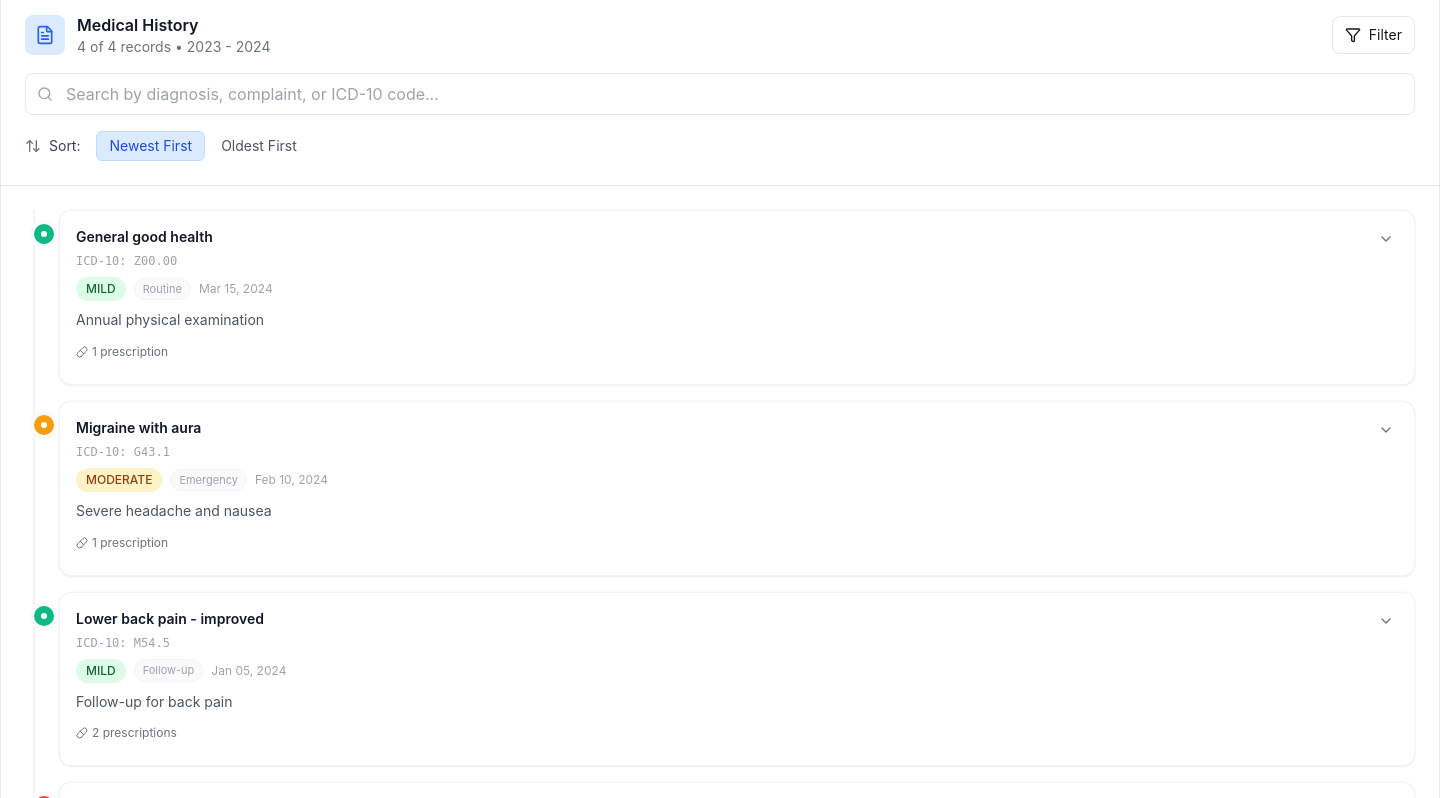
Test: MedicalHistoryTimeline › Filtering Controls › can clear all filters
Click the button "Filter" at (1373, 35), box [1332,16,1415,54]
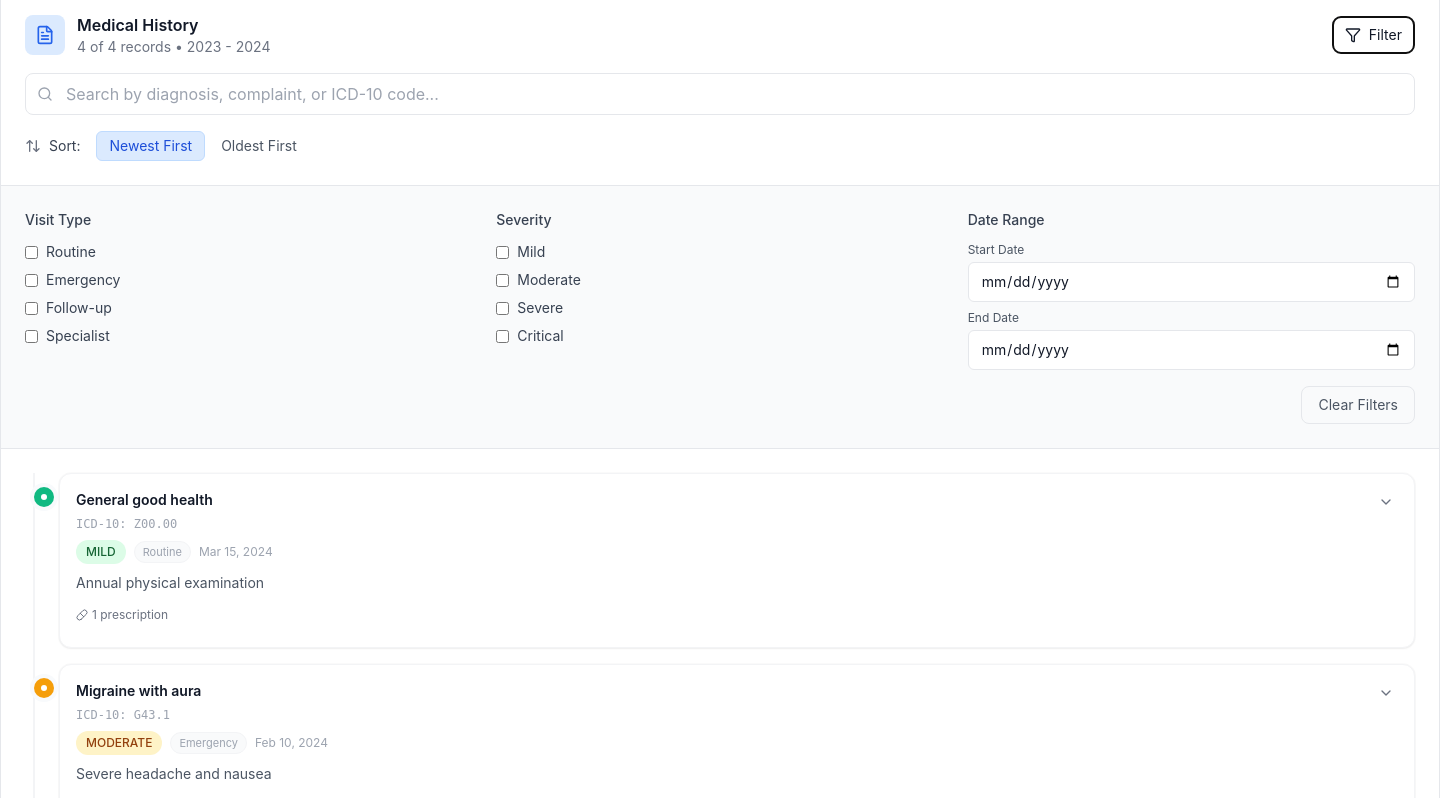
# Apply some filters
Click the checkbox labelled "Emergency" at (32, 280), box [25,274,38,286]
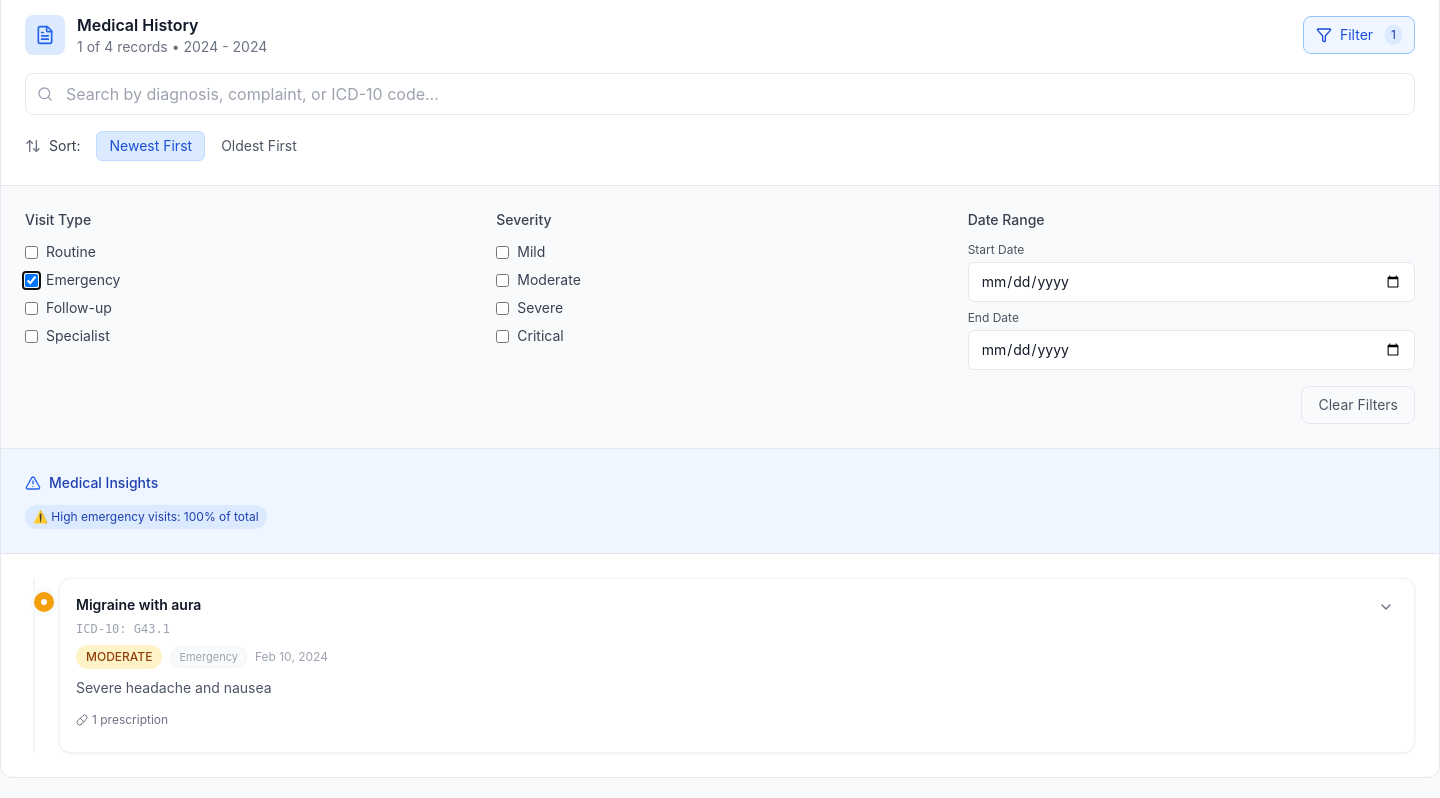
# Clear filters
Click the button "Clear Filters" at (1358, 405), box [1302,386,1415,424]
(page scrolled)
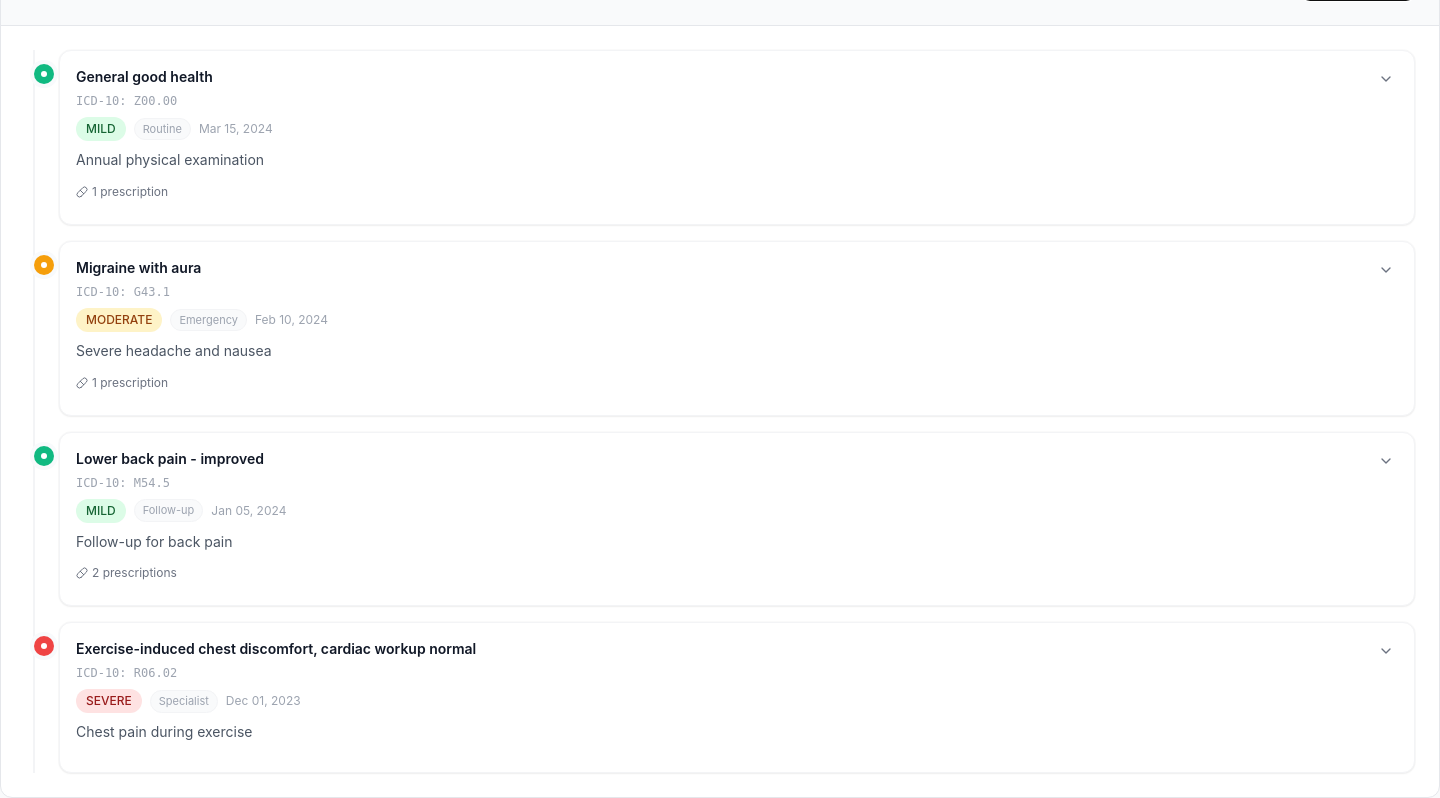
Expected: the heading "Migraine with aura" is shown, [76,258,201,278]
Expected: the heading "General good health" is shown, [76,67,213,87]
Expected: the heading "Lower back pain - improved" is shown, [76,448,264,468]
